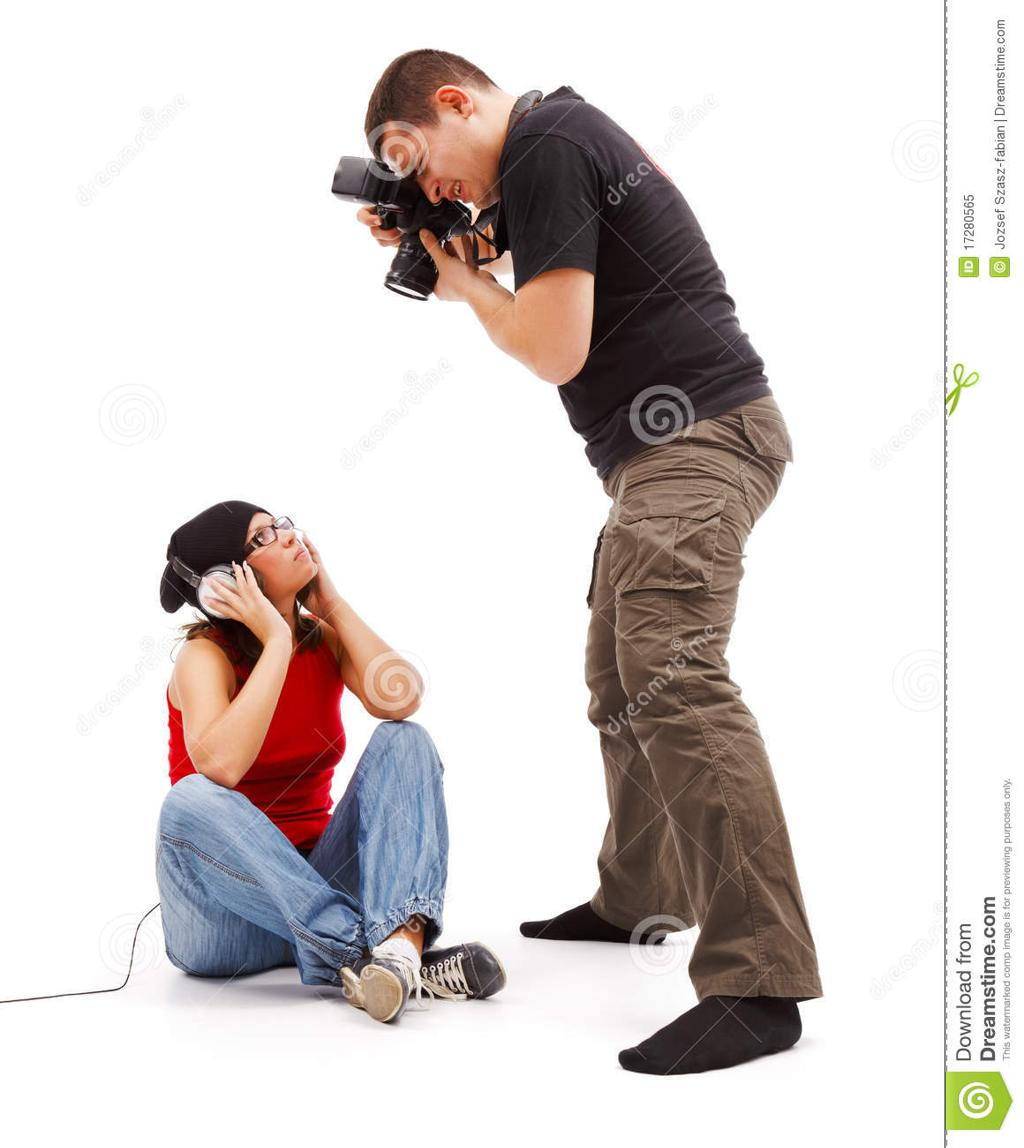face: (381, 128, 495, 209), (226, 502, 320, 585)
